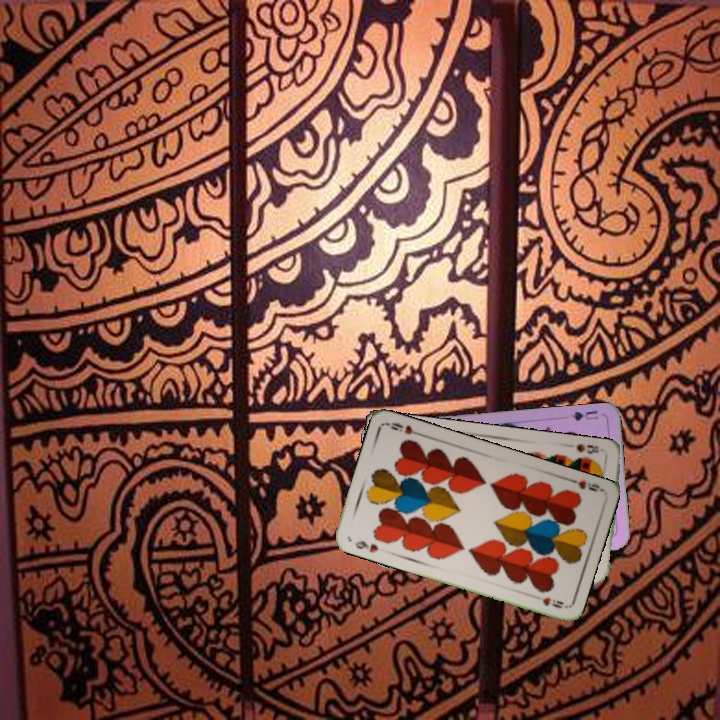GU: (568, 407, 600, 424)
H9: (565, 474, 604, 494), (351, 537, 381, 555)
S8: (573, 439, 602, 457)
